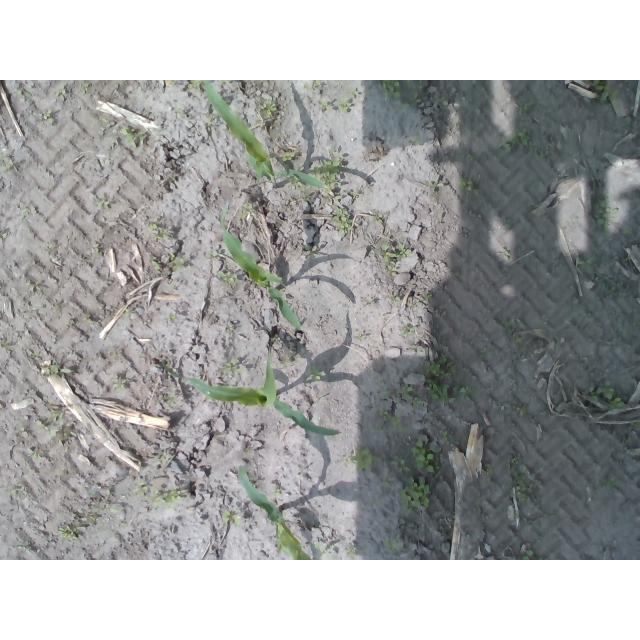Maize: (196, 80, 332, 194), (178, 351, 343, 438), (217, 200, 305, 333), (237, 464, 316, 560)
Weeds: (390, 439, 443, 510), (425, 347, 471, 410), (509, 454, 538, 504), (589, 189, 619, 232), (137, 481, 188, 505), (309, 156, 344, 188), (382, 240, 410, 277), (589, 383, 626, 409), (592, 81, 619, 104), (501, 131, 531, 151), (119, 125, 145, 148), (351, 445, 373, 472), (334, 204, 354, 232), (41, 358, 74, 374), (147, 223, 173, 242), (458, 177, 483, 195), (380, 80, 401, 101), (401, 383, 421, 405), (222, 510, 243, 530), (47, 431, 70, 449), (380, 410, 404, 426), (576, 253, 596, 272), (57, 526, 78, 541), (410, 80, 423, 104), (259, 101, 276, 119), (0, 152, 14, 173), (218, 270, 237, 285), (26, 447, 46, 461), (512, 402, 529, 418), (171, 253, 186, 271), (240, 201, 255, 219), (222, 362, 242, 375), (399, 324, 417, 338), (151, 254, 162, 274), (514, 336, 526, 354), (14, 87, 33, 98), (110, 378, 126, 391), (383, 538, 402, 548), (49, 410, 63, 423), (600, 477, 616, 488), (313, 542, 327, 554), (501, 316, 515, 328), (312, 369, 324, 383), (272, 488, 285, 500), (54, 84, 66, 97), (283, 151, 297, 162), (345, 546, 360, 556), (94, 200, 110, 209), (318, 100, 334, 109), (384, 296, 400, 305), (441, 430, 452, 443), (338, 99, 348, 113), (20, 208, 28, 225), (349, 87, 361, 98), (166, 395, 177, 407), (483, 464, 493, 477), (519, 103, 530, 114), (374, 212, 383, 225), (187, 80, 201, 88), (502, 216, 514, 225), (94, 242, 102, 255), (631, 421, 640, 431), (399, 103, 408, 113), (165, 80, 179, 86), (310, 81, 322, 88), (46, 118, 55, 127), (16, 544, 27, 551), (304, 193, 311, 203), (425, 292, 433, 300), (122, 308, 130, 316), (519, 556, 529, 561)
